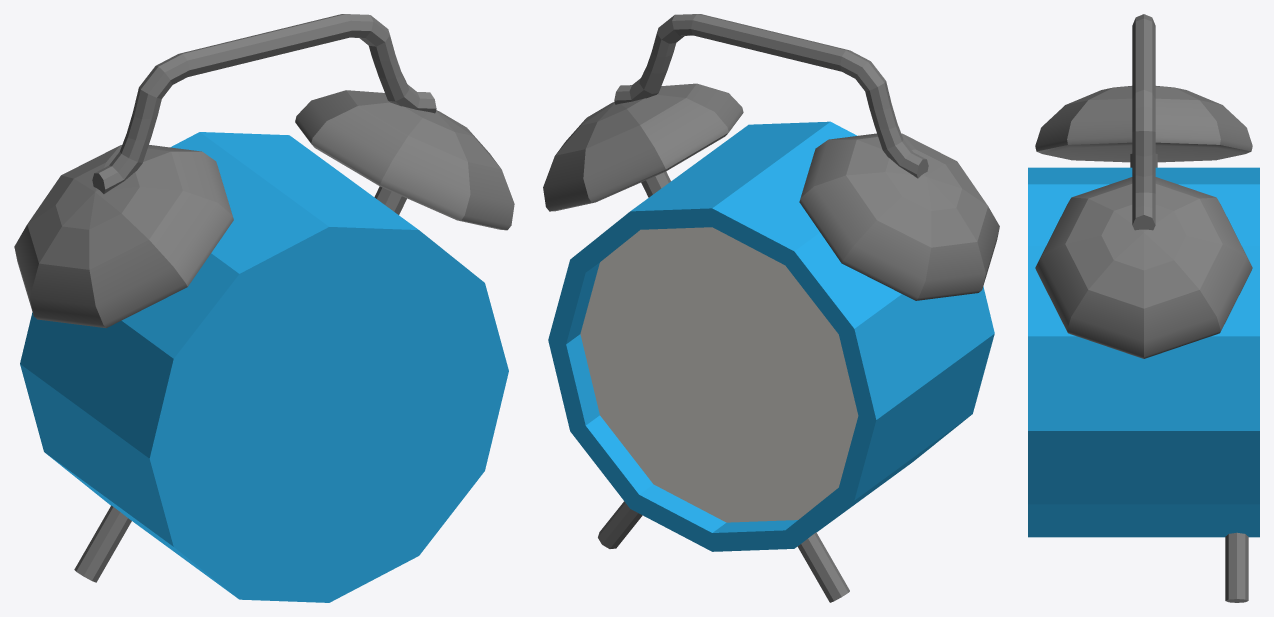
The model's file is Reveil.fbx.
3 renders of one model, left to right at view 1: azimuth 30°, elevation 25°; view 2: azimuth 150°, elevation 25°; view 3: azimuth 270°, elevation 25°, orthographic. The views are drawn at different scales.
Parts seen in each view (by area): view 1: Reveil; view 2: Reveil; view 3: Reveil.
Part boxes in pixels (left/top/right/bottom): Reveil: left=14, top=14, right=514, bottom=602; Reveil: left=543, top=14, right=999, bottom=602; Reveil: left=1028, top=14, right=1259, bottom=602.
Bounding box in the file's own units: 10.45 × 11.83 × 5.
